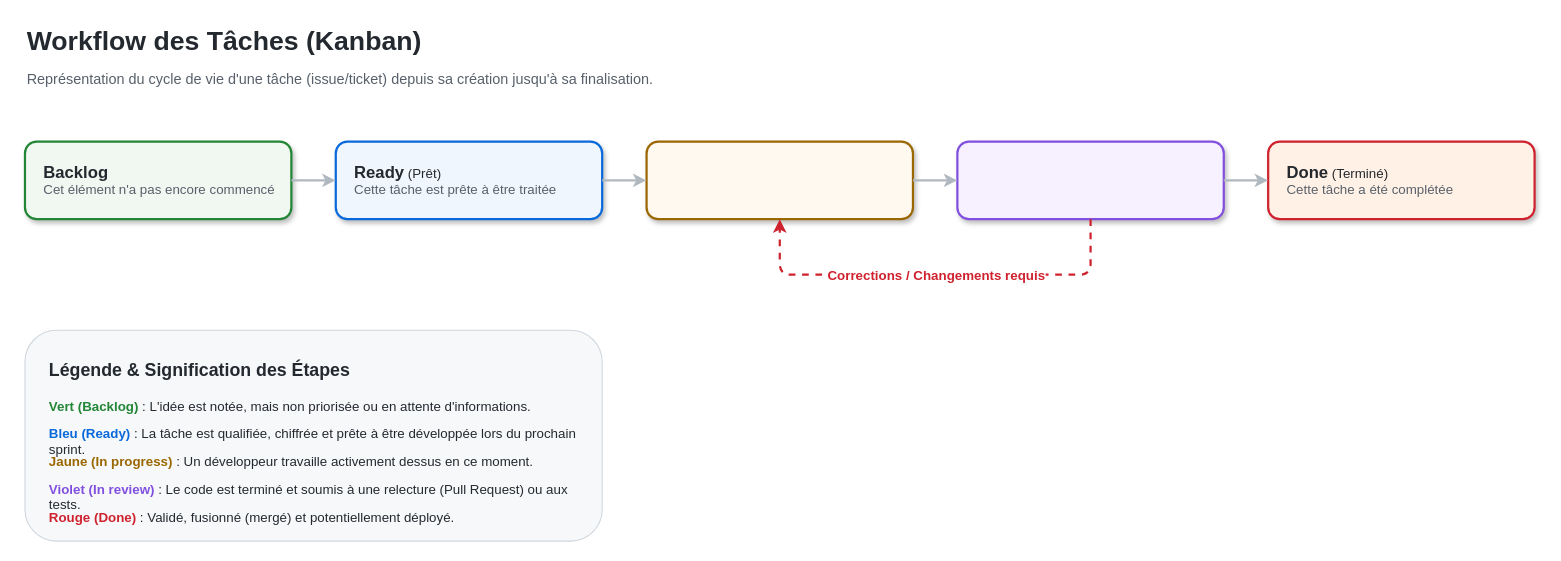
Image size: 1561x561. Some labels were removed from this diagram. The shapes that lost their labels are listed below. From the top down, each one's centre as x and y in pixels, then its label:
At (x=780, y=181): "In progress (En cours) Cette tâche est activement travaillée".
At (x=1091, y=181): "In review (En revue) Cette tâche est en cours de révision".
